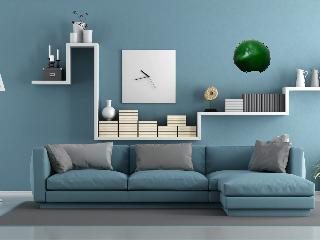lime: (233, 39, 270, 74)
